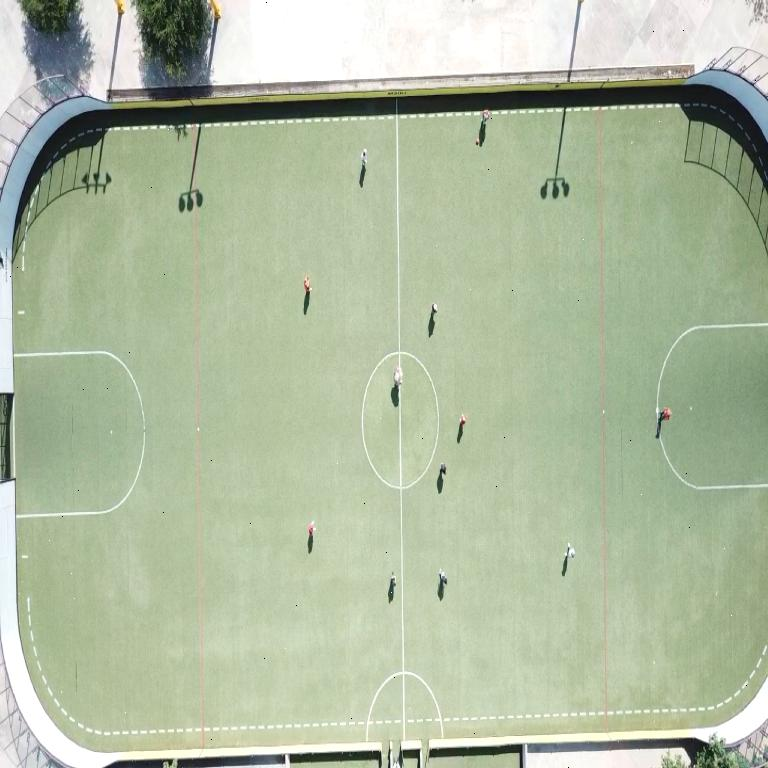AC: (14, 350, 144, 519), (655, 323, 767, 411)
B: (476, 138, 479, 144)
MC: (397, 397, 405, 740)
P: (658, 403, 672, 424), (393, 365, 401, 387), (304, 276, 312, 294), (307, 521, 315, 538), (438, 569, 446, 586), (565, 543, 574, 558), (481, 109, 489, 125), (360, 149, 366, 167), (439, 462, 446, 475), (390, 571, 395, 589), (459, 413, 465, 427), (432, 303, 437, 314)
